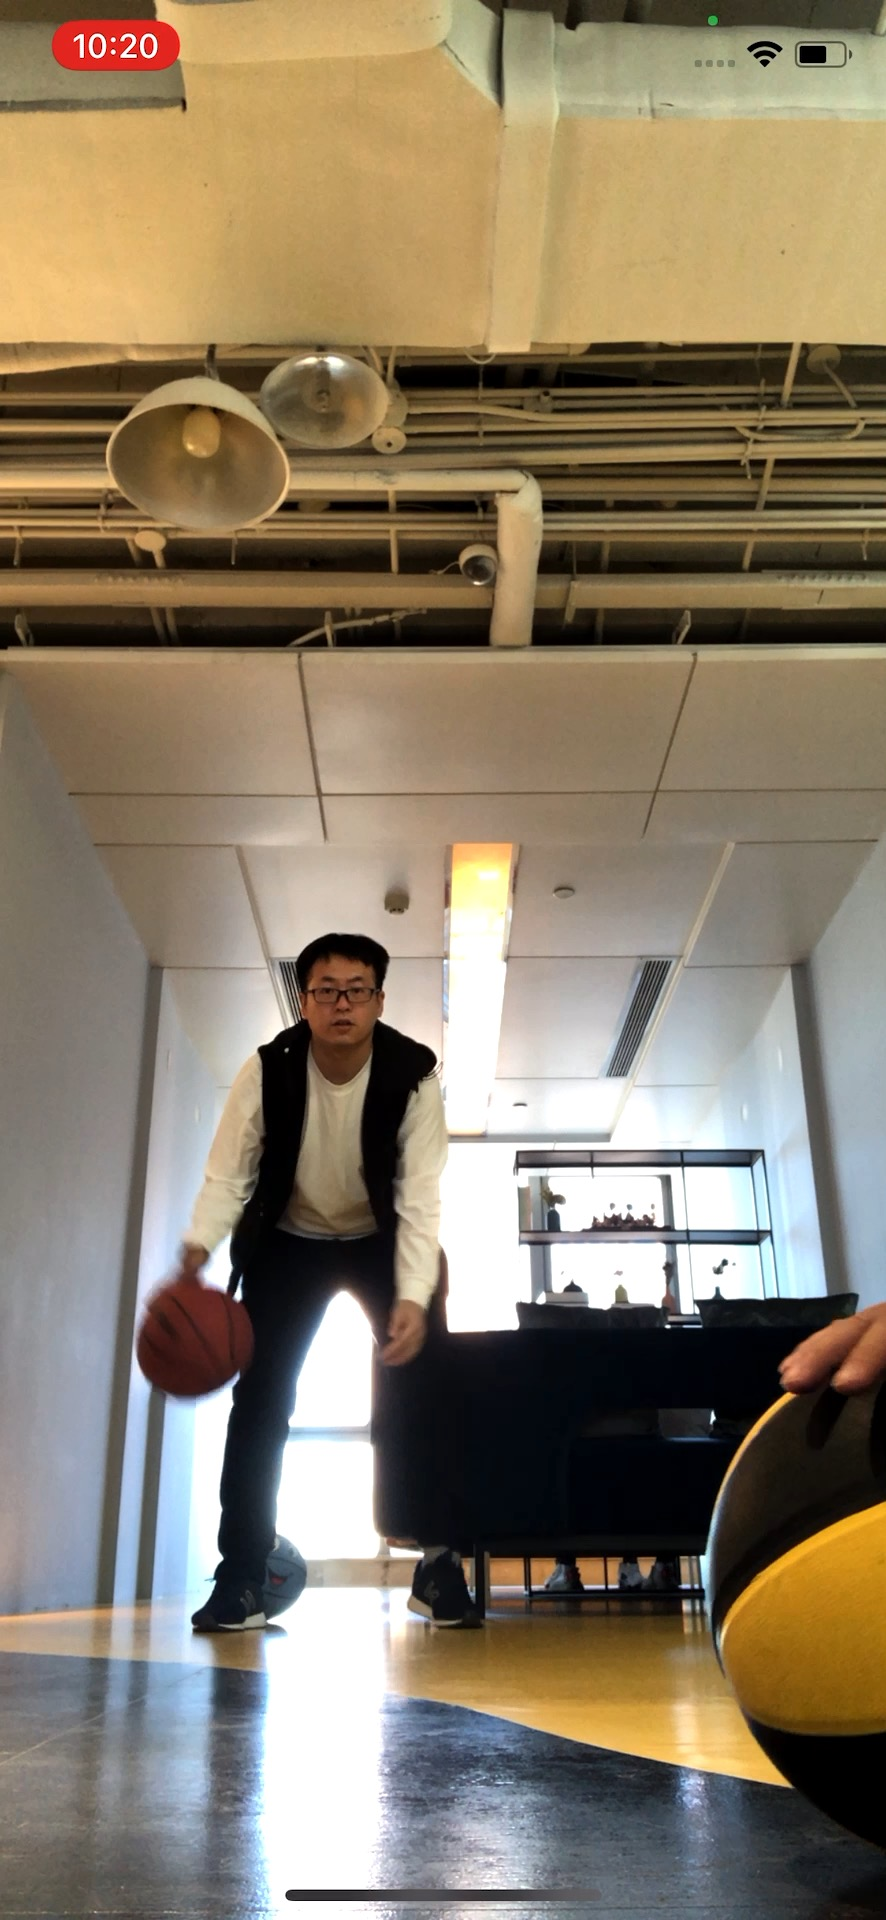ball: (709, 1359, 886, 1861), (137, 1282, 251, 1400)
